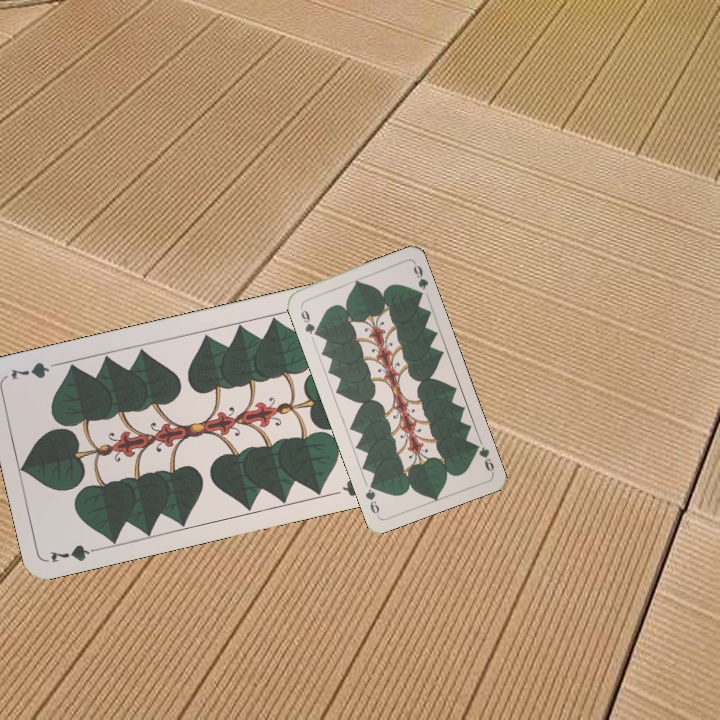G7: (46, 540, 106, 566)
G9: (469, 439, 497, 476), (296, 302, 321, 339)
